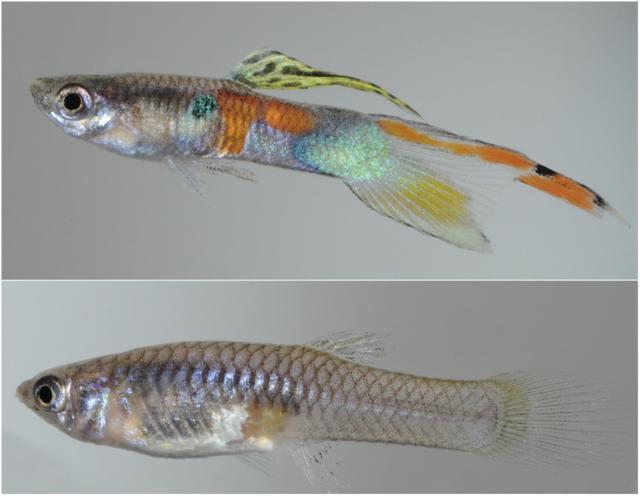Mulut: (13, 64, 75, 126), (0, 365, 50, 425)
Sirip Anal: (284, 406, 354, 492), (190, 144, 270, 191)
Sirip Ekor: (328, 100, 640, 274), (460, 356, 640, 488)
Sirip Punggung: (216, 39, 428, 121), (280, 300, 406, 367)
